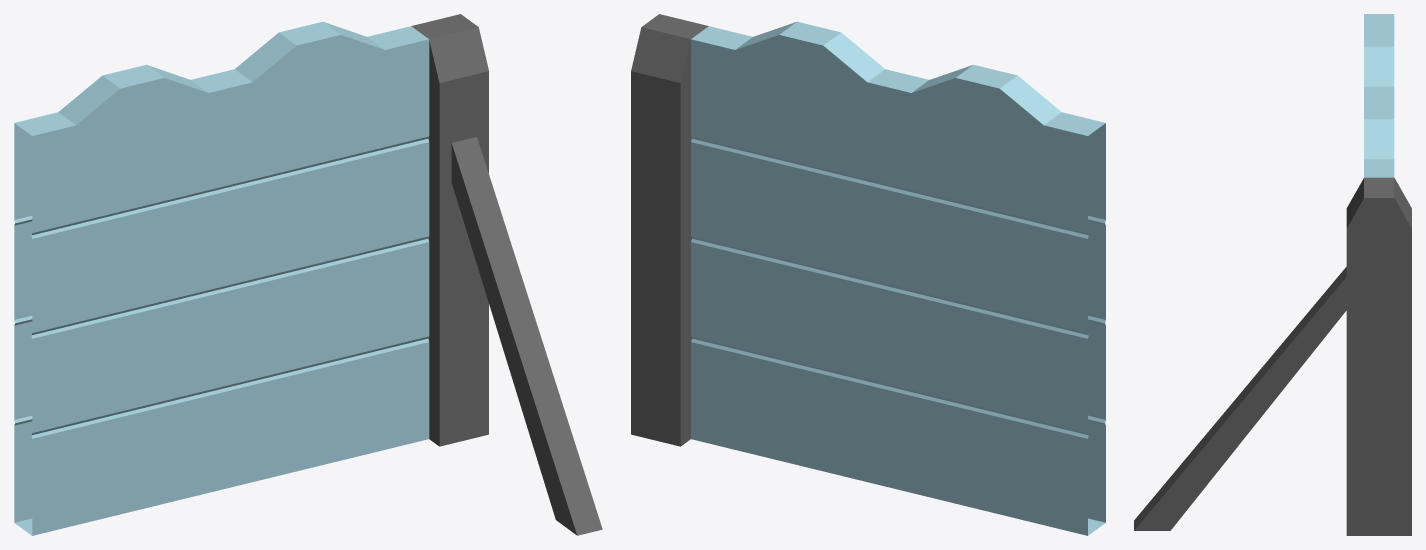
File: Mauer.fbx
3 views of the same model, side by side, from view 1: azimuth 30°, elevation 25°; view 2: azimuth 150°, elevation 25°; view 3: azimuth 270°, elevation 25° (orthographic). The views are drawn at different scales.
Parts seen in each view (by area): view 1: Mauer; view 2: Mauer; view 3: Mauer.
Part boxes in pixels (box(x1,y1,x2,y2)): Mauer: box(14, 14, 602, 535); Mauer: box(631, 14, 1105, 535); Mauer: box(1134, 14, 1411, 535).
Size of the model in its own units: 900 by 820 by 574.
